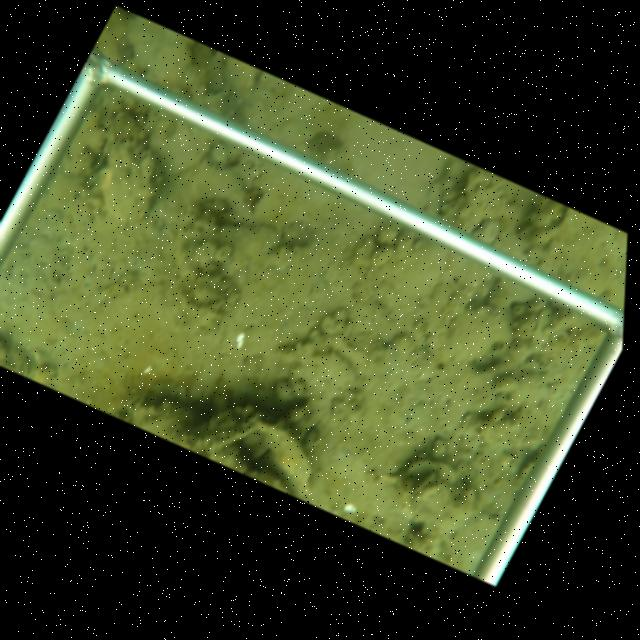Oyster-Indeterminate: (361, 238, 454, 313), (93, 138, 167, 223), (259, 420, 319, 500), (181, 404, 265, 453), (447, 304, 515, 361), (216, 222, 280, 263), (392, 454, 459, 485)
